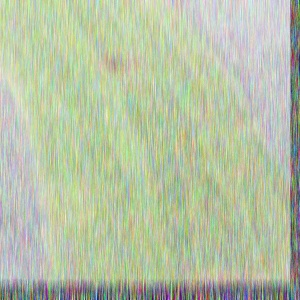Bacterial_Leaf_Blight: (95, 46, 146, 79), (192, 110, 208, 124), (218, 164, 234, 175), (175, 264, 188, 274), (199, 99, 213, 107)
